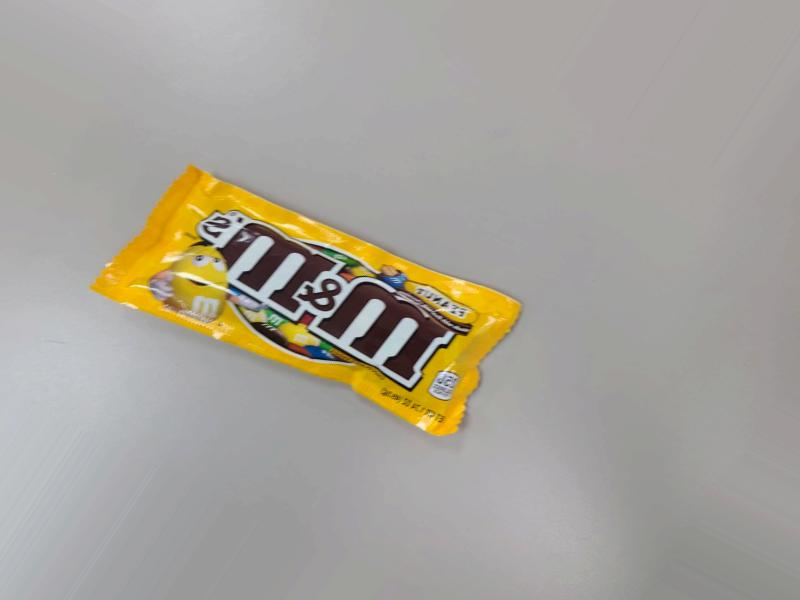m&m: (110, 158, 514, 445)
